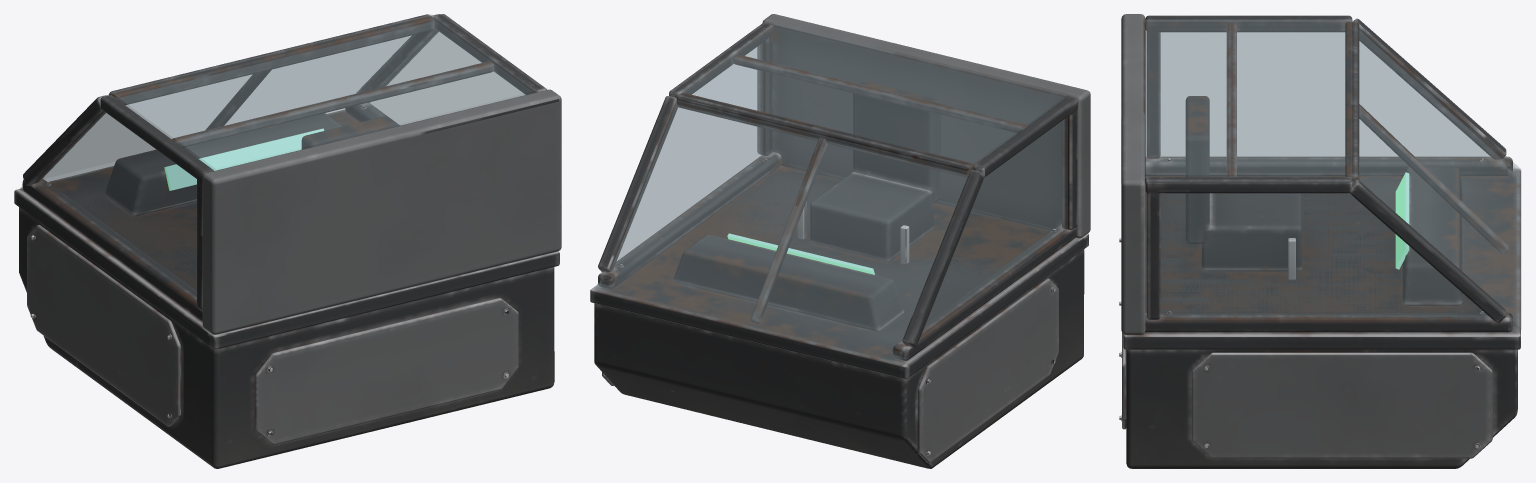
Rendered from SM_ShipCockpit.glb.
3 renders of one model, left to right at view 1: azimuth 30°, elevation 25°; view 2: azimuth 150°, elevation 25°; view 3: azimuth 270°, elevation 25°, orthographic. The views are drawn at different scales.
Visible parts, largest first — view 1: SM_ShipCockpit; view 2: SM_ShipCockpit; view 3: SM_ShipCockpit.
Boxes of the visible parts, x1=… form: SM_ShipCockpit: x1=14, y1=14, x2=561, y2=468; SM_ShipCockpit: x1=590, y1=14, x2=1090, y2=468; SM_ShipCockpit: x1=1119, y1=14, x2=1521, y2=468.
Size of the model in its own units: 2.02 by 1.6 by 2.01.
5 materials, 3 textured.
